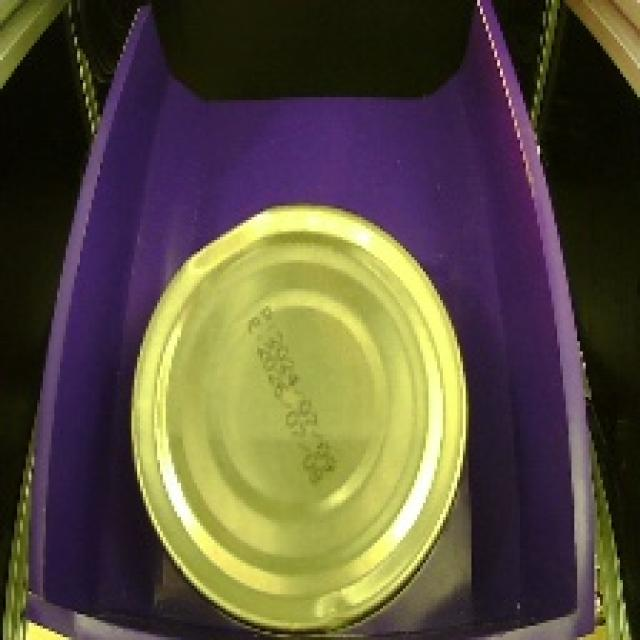metal: (120, 185, 477, 640)
